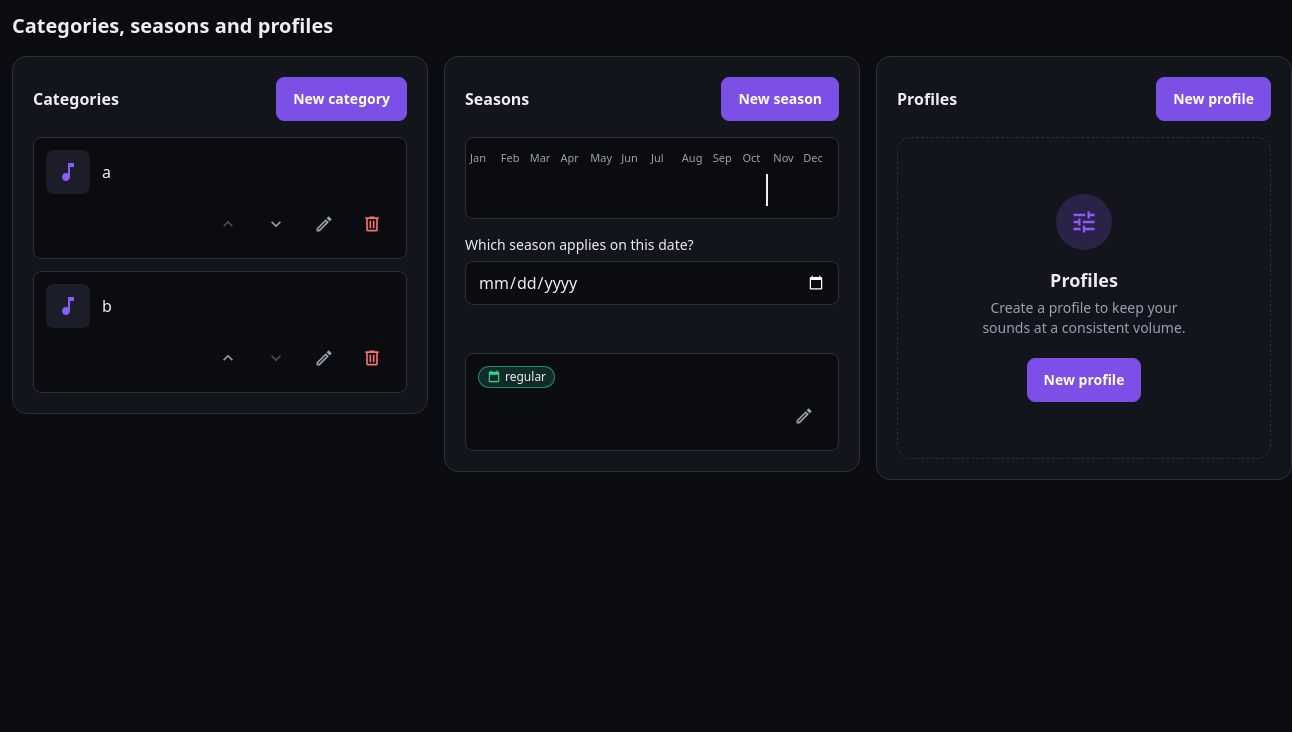
Scenario: shows reorder failures inline and as an error toast with a row spinner
The image size is (1292, 732).
Click the button named "Move a down" at (276, 224), box [254,202,298,246]
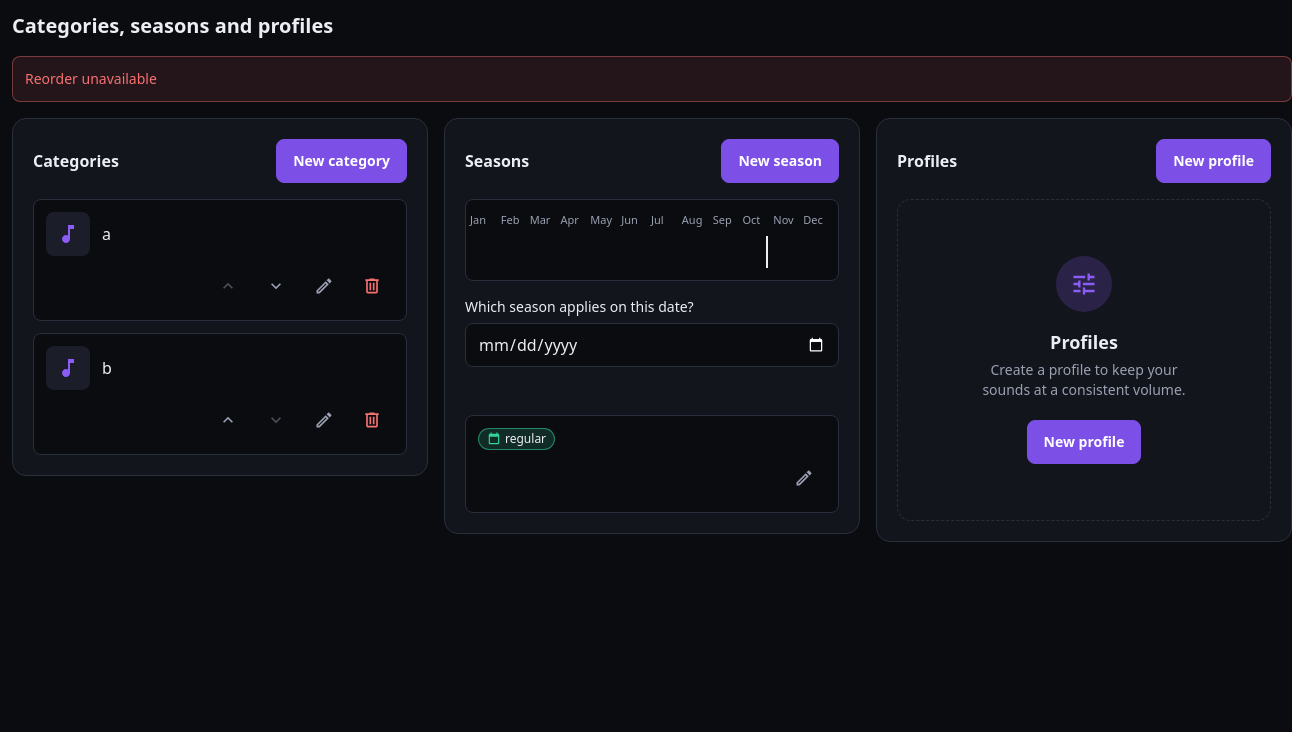
Check: the list item "a" is shown, box [33,199,407,321]
Check: the text with test id "organize-error" reads "Reorder unavailable", box [25,69,157,88]
